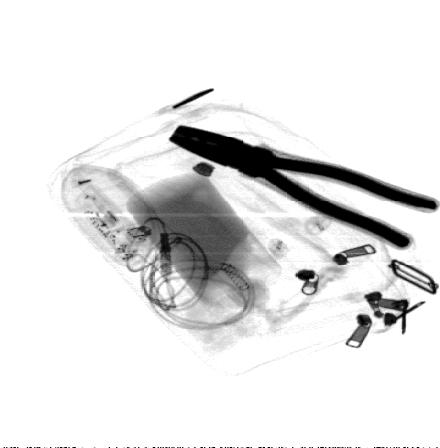Pliers: (166, 122, 439, 252)
